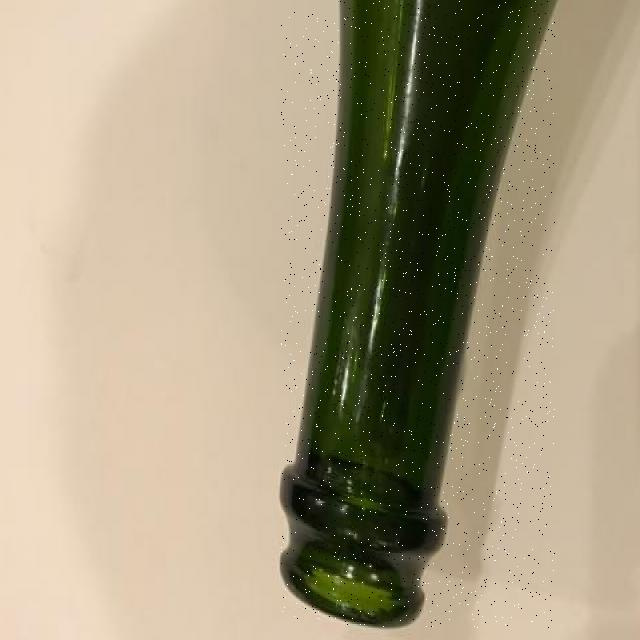glass: (281, 0, 555, 627)
